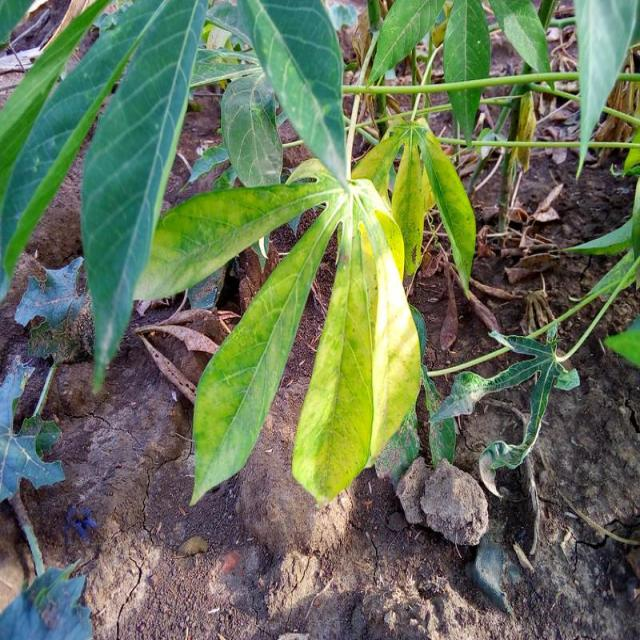cassava leaf: (189, 180, 347, 507), (79, 0, 209, 395), (291, 179, 423, 506), (238, 0, 350, 189)
